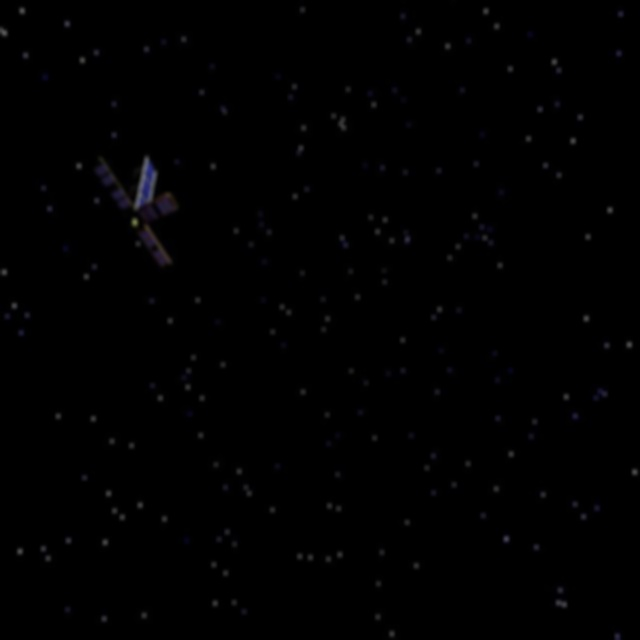satellite: (76, 148, 184, 277)
